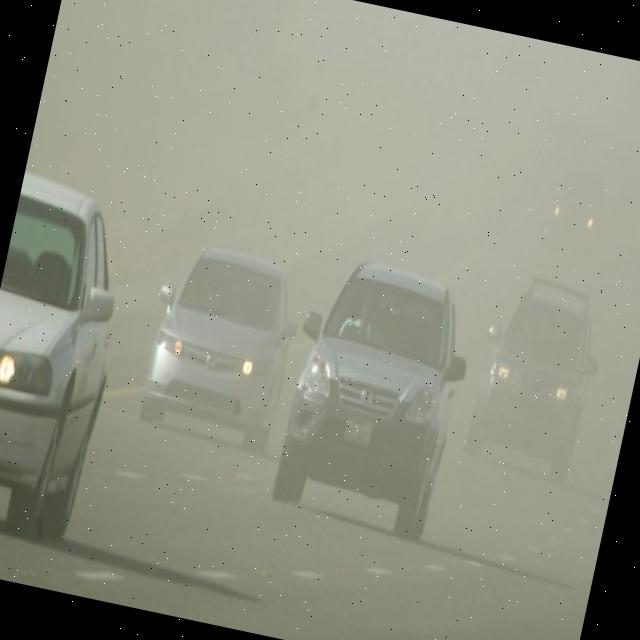car: (264, 249, 482, 540), (0, 167, 151, 537), (135, 236, 308, 449), (464, 270, 612, 480), (542, 162, 610, 254)
